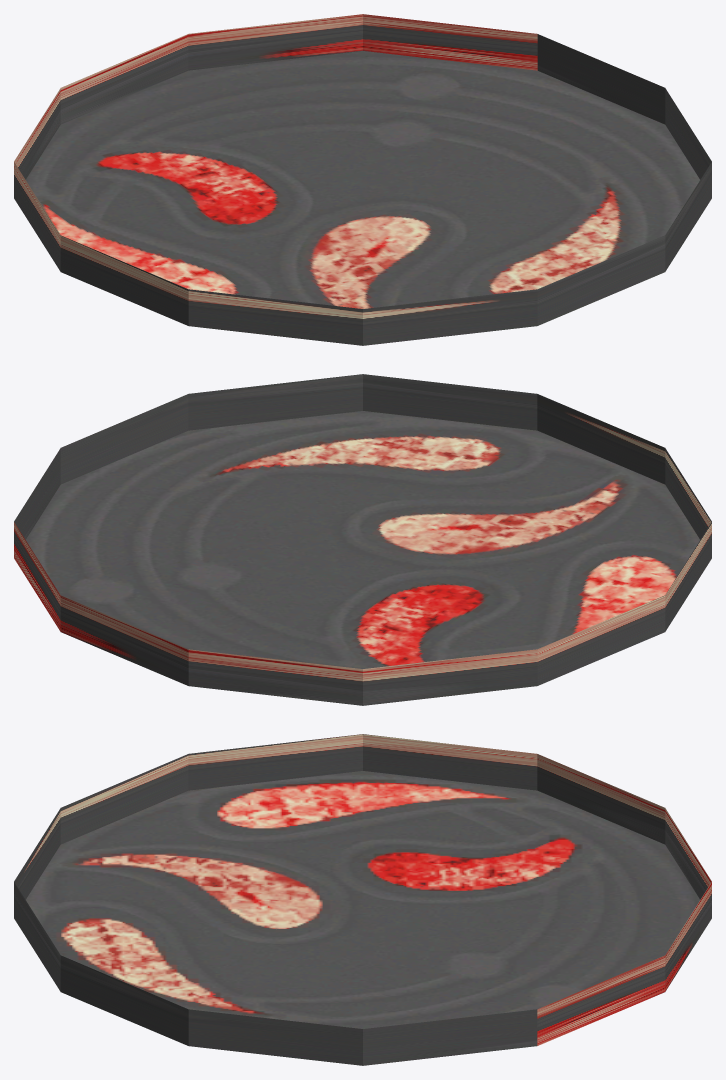
The model's file is nt_2020_wall_art_prop_03_LOD2.obj.
3 renders of one model, top to bottom at view 1: azimuth 30°, elevation 25°; view 2: azimuth 150°, elevation 25°; view 3: azimuth 270°, elevation 25°, orthographic.
Parts seen in each view (by area): view 1: mtl_nt_2020_wall_art_03; view 2: mtl_nt_2020_wall_art_03; view 3: mtl_nt_2020_wall_art_03.
Boxes of the visible parts, x1,y1,x2,y2 form: mtl_nt_2020_wall_art_03: [14, 14, 711, 345]; mtl_nt_2020_wall_art_03: [14, 374, 711, 705]; mtl_nt_2020_wall_art_03: [14, 734, 711, 1065].
Bounding box in the file's own units: 120 × 6.98 × 120.
